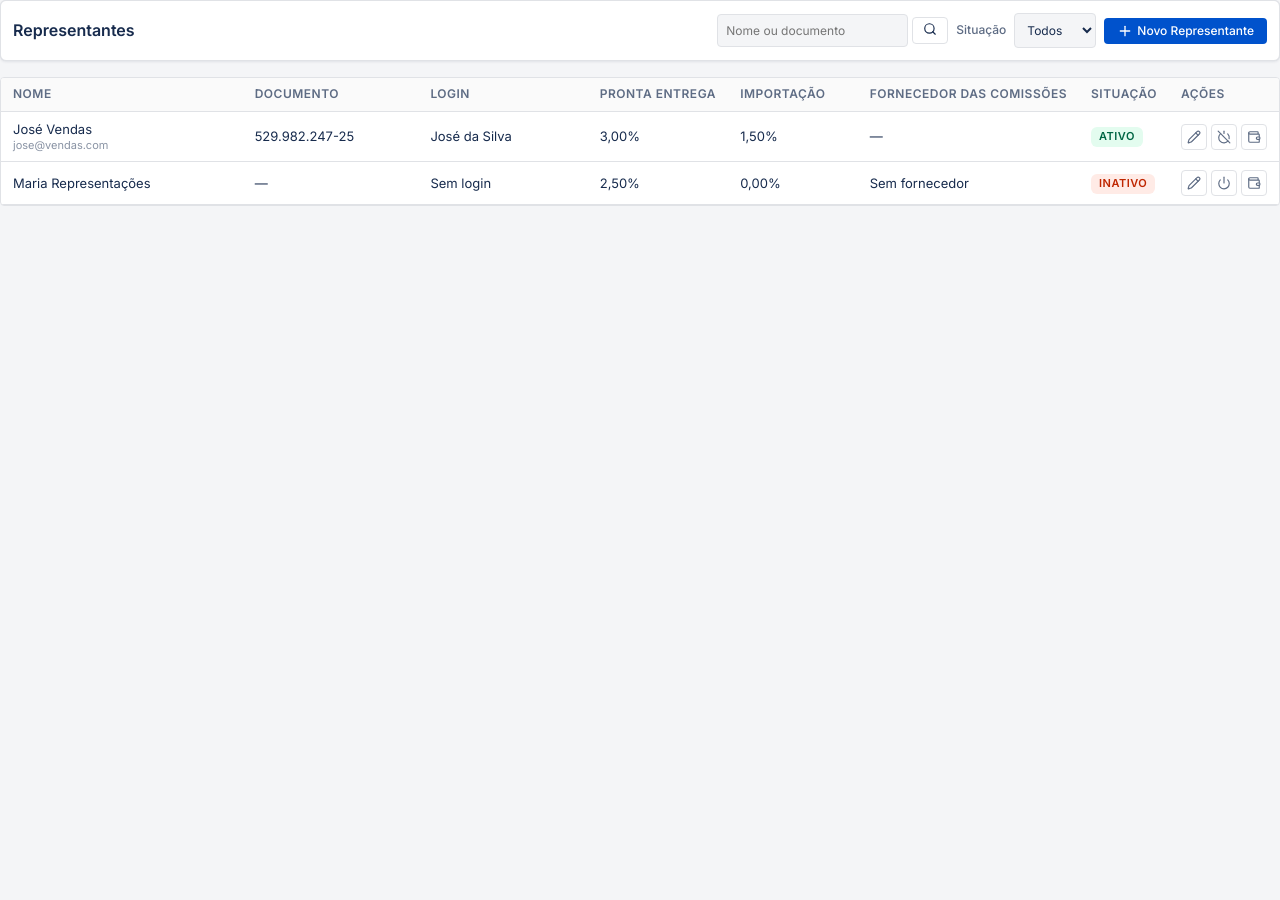
Test: Representantes › valida nome, documento, e-mail e percentuais antes de enviar
The image size is (1280, 900).
expect the text "José Vendas" is shown: met, box [13,121,92,137]
Click the button "Novo Representante".
click(1186, 30)  # box [1104,18,1267,44]
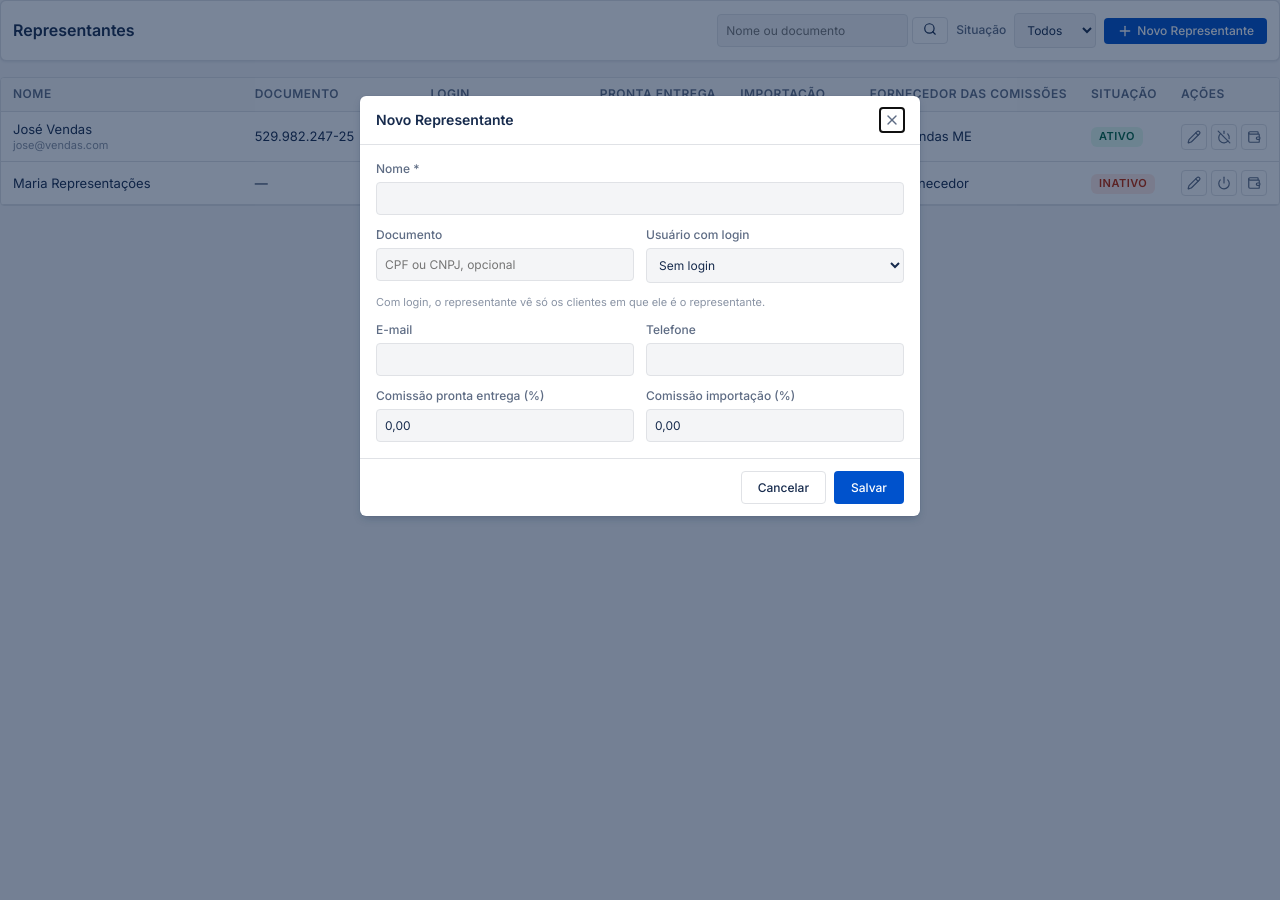
Type "123" into the field labelled "Documento".
click(505, 264); type("123")  # box [376,248,634,281]
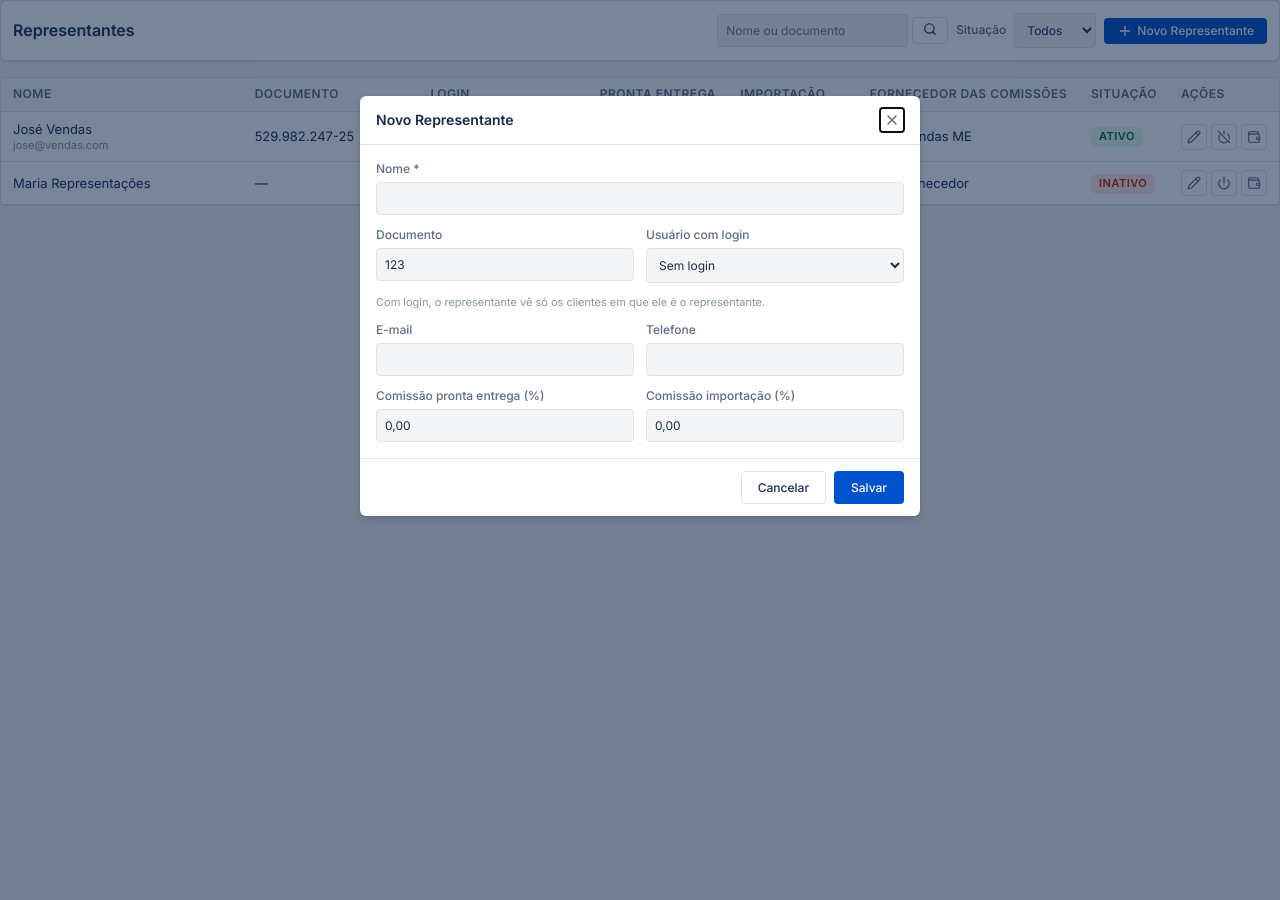
Type "sem-arroba" into the field labelled "E-mail".
click(505, 359); type("sem-arroba")  # box [376,343,634,376]
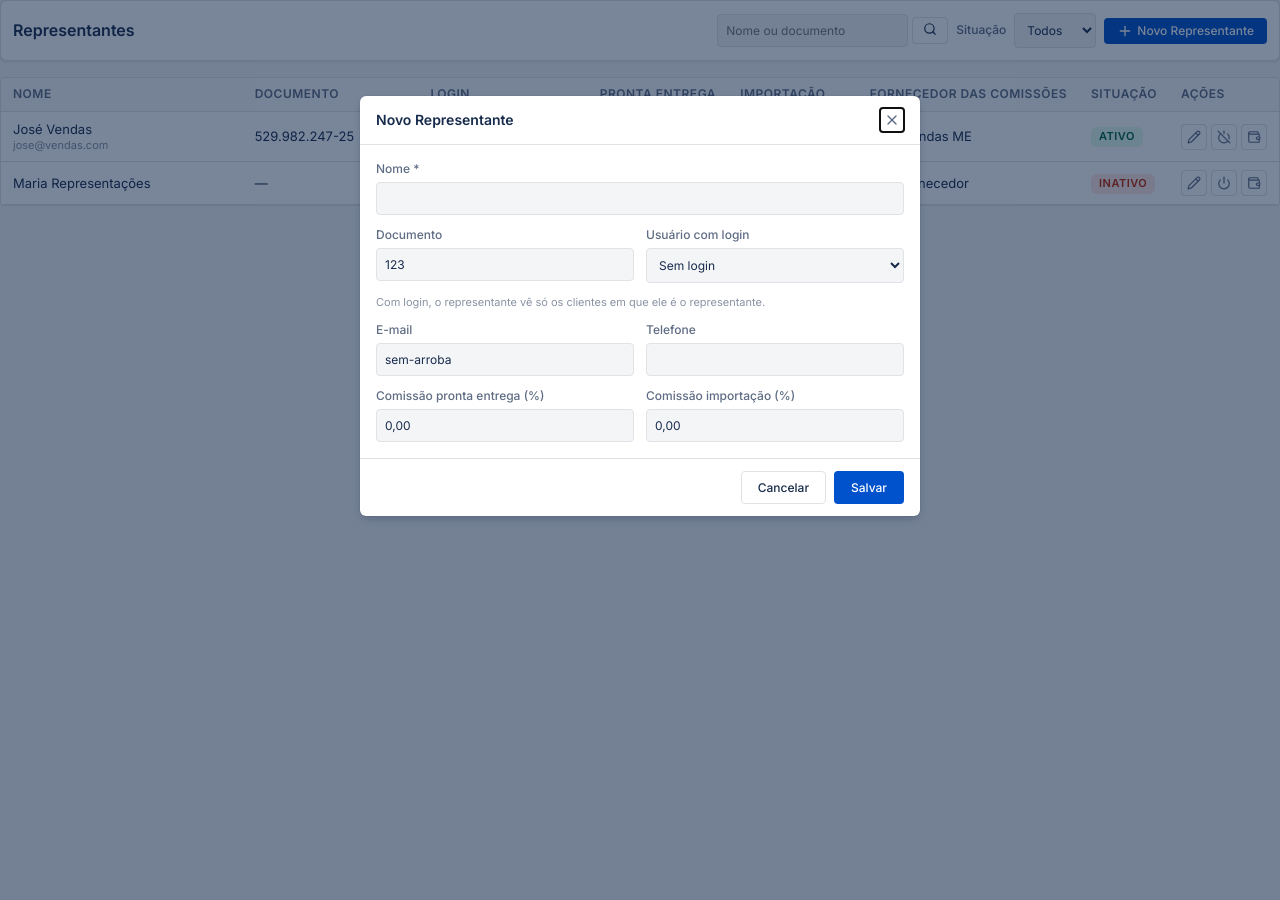
Replace the text in the field labelled "Comissão pronta entrega (%)" with "101" at (505, 425), box [376,409,634,442]
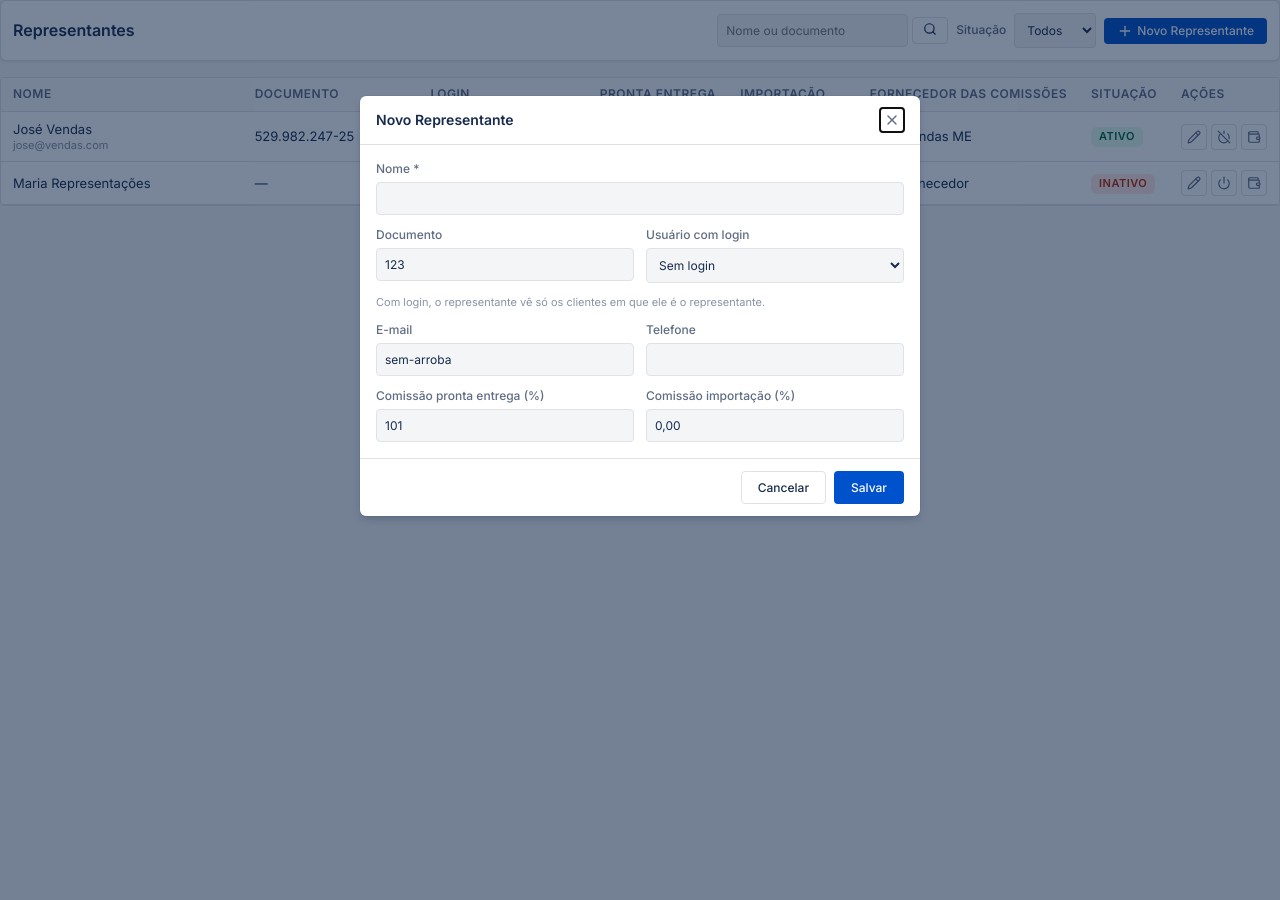
Replace the text in the field labelled "Comissão importação (%)" with "abc" at (775, 425), box [646,409,904,442]
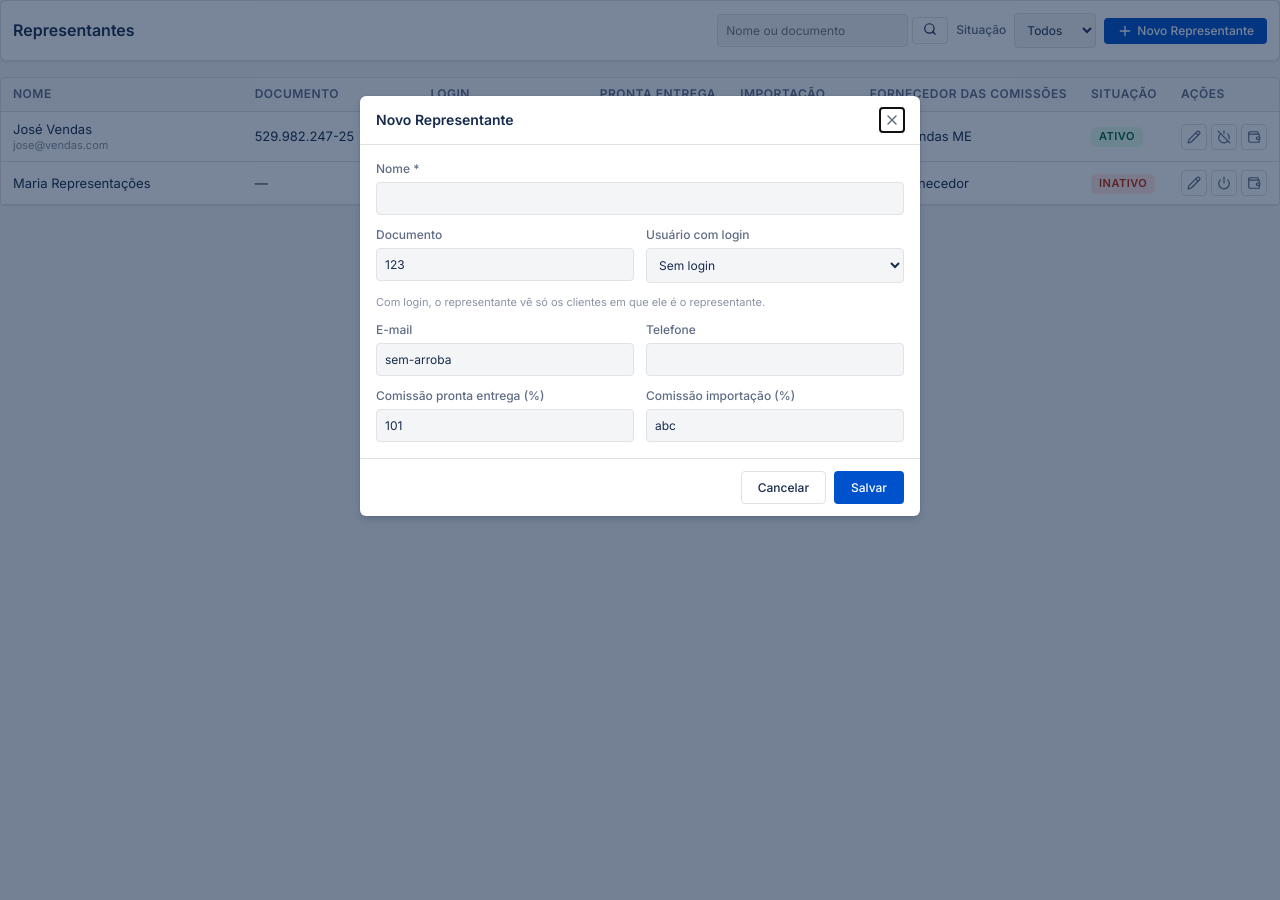
Click the button "Salvar".
click(869, 487)  # box [834,471,904,504]
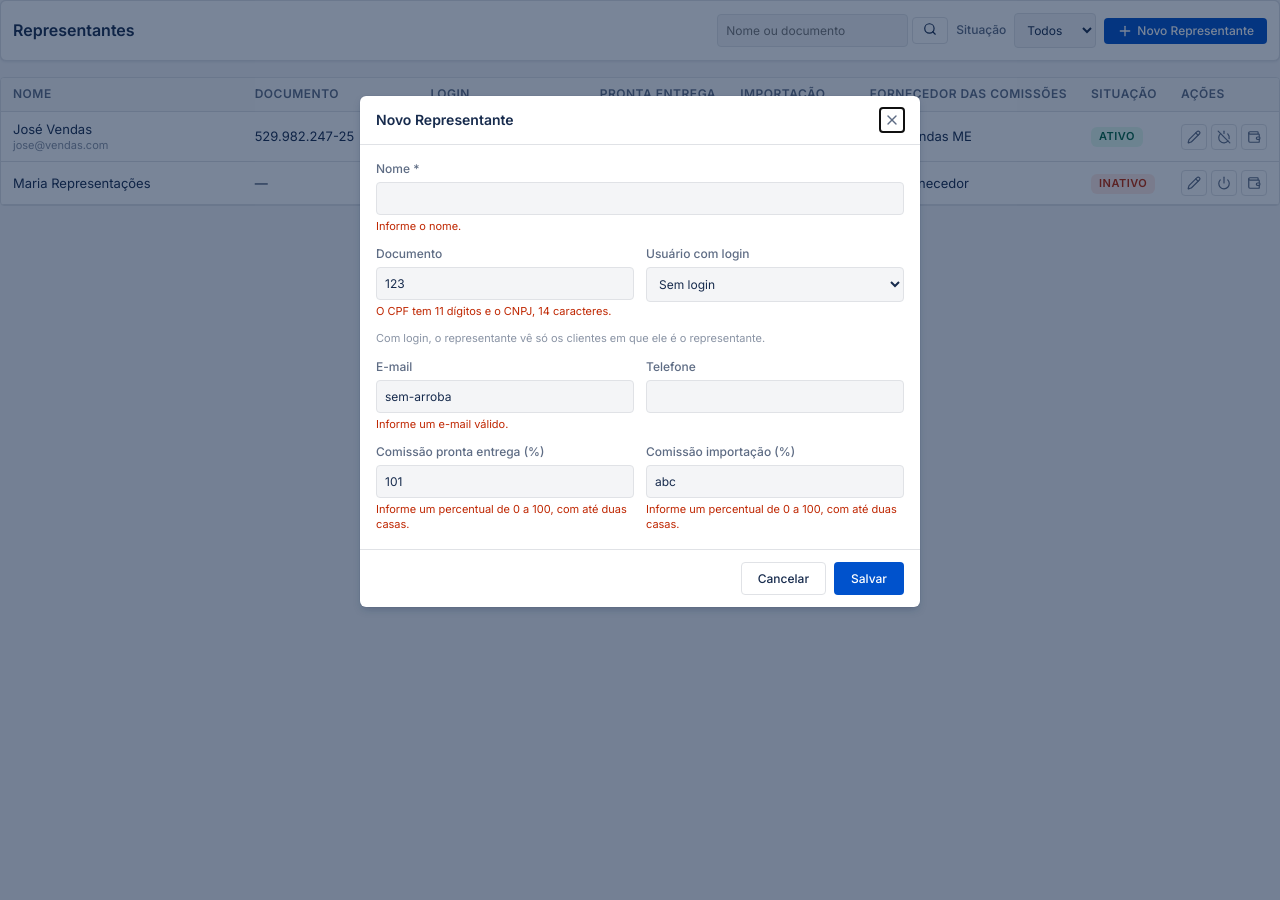
expect the text "Informe o nome." is shown: met, box [376,219,461,233]
expect the text "O CPF tem 11 dígitos e o CNPJ, 14 caracteres." is shown: met, box [376,304,634,319]
expect the text "Informe um e-mail válido." is shown: met, box [376,417,508,431]
